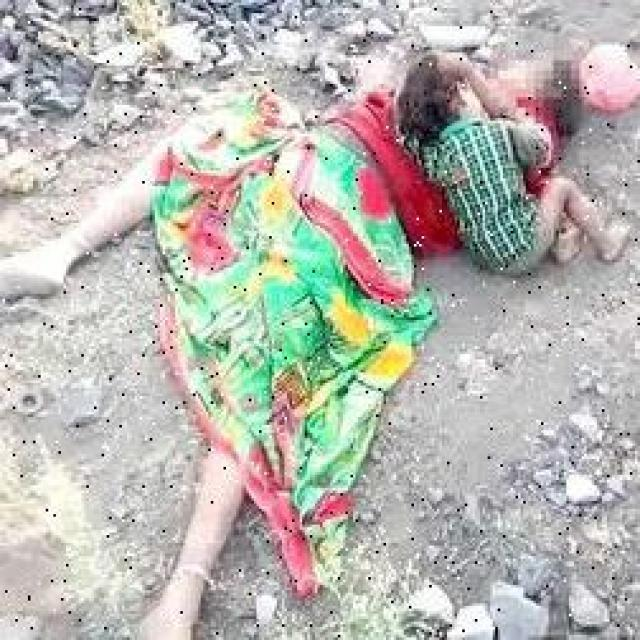fall: (71, 62, 569, 506)
